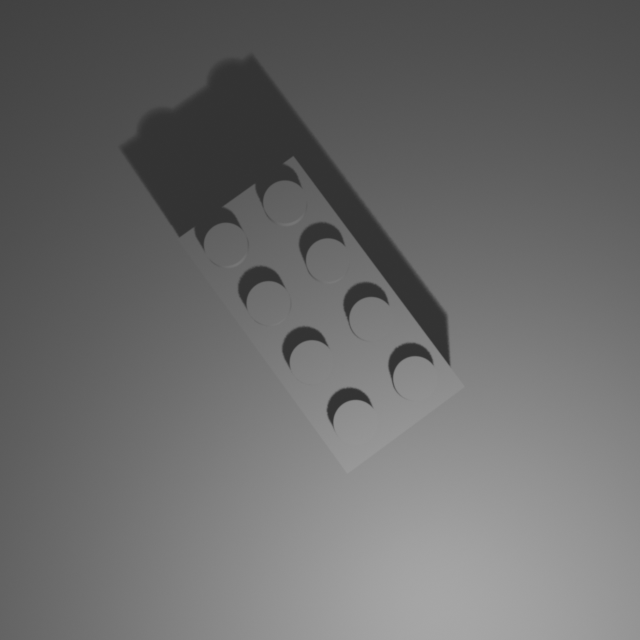lego_2x4: (175, 152, 467, 475)
